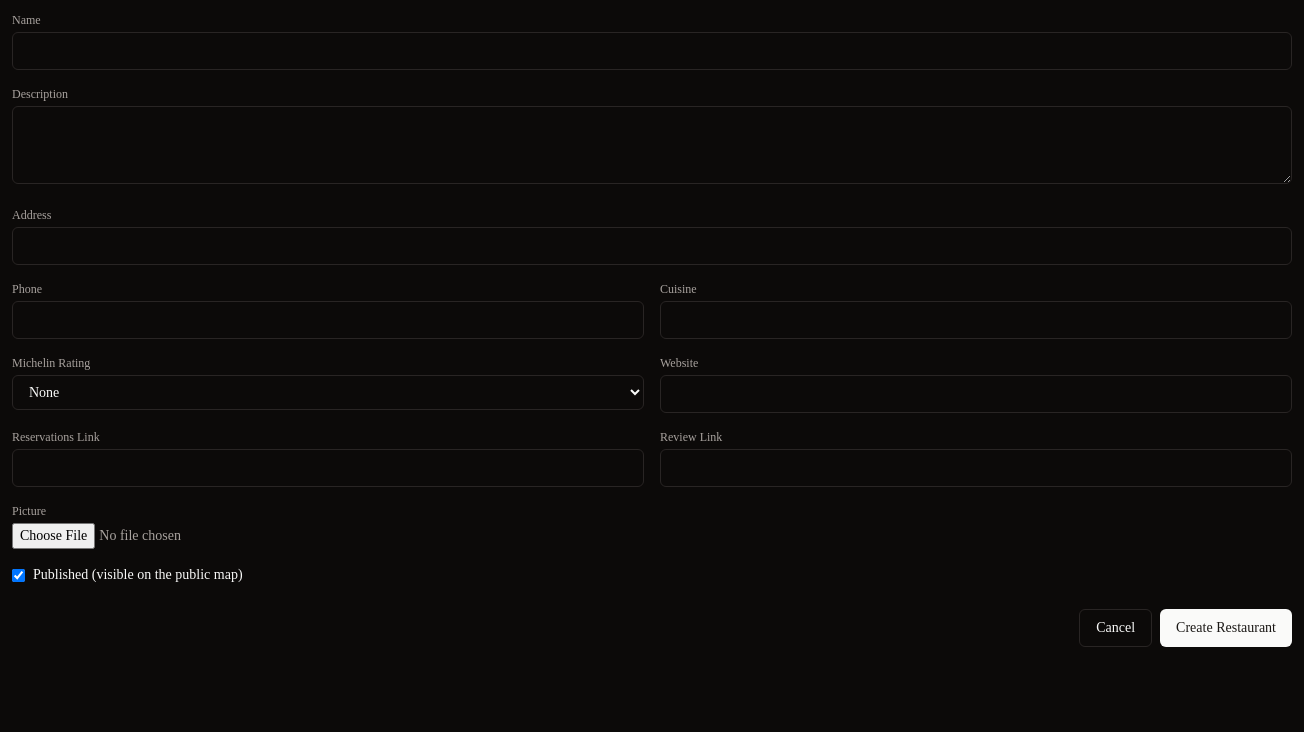
Test: LocationForm › blocks submit when the address has not been geocoded
Type "My Cafe" into the field labelled "Name" at (652, 51), box x1=12 y1=32 x2=1292 y2=70
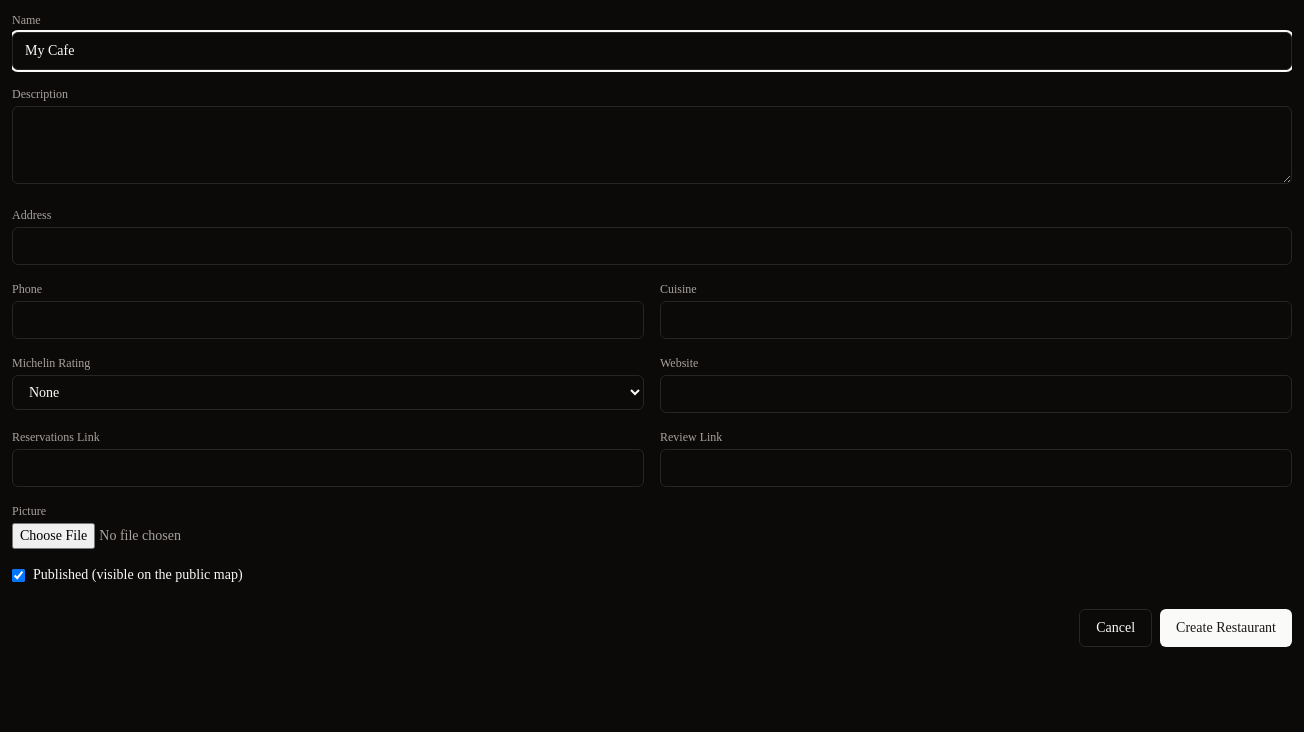
Type "Nowhere" into the field labelled "Address" at (652, 246), box x1=12 y1=227 x2=1292 y2=265
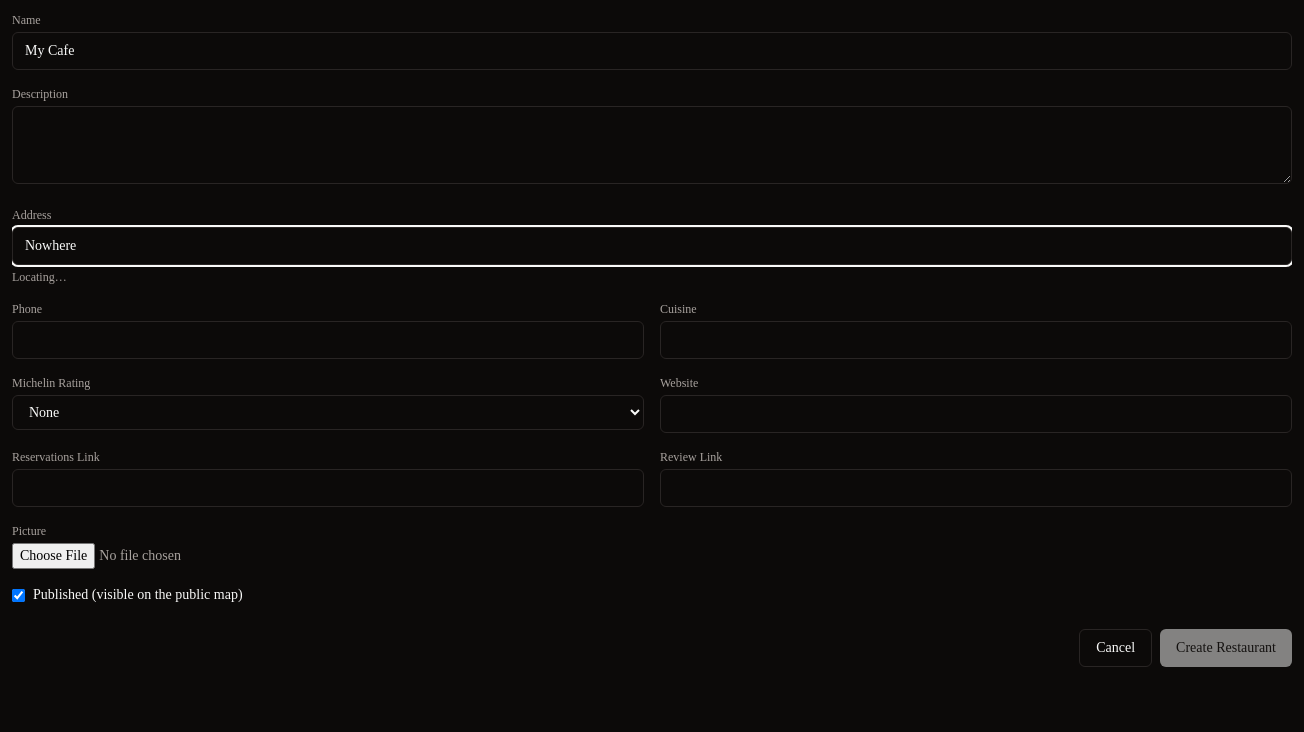
Submit the form named "create restaurant"
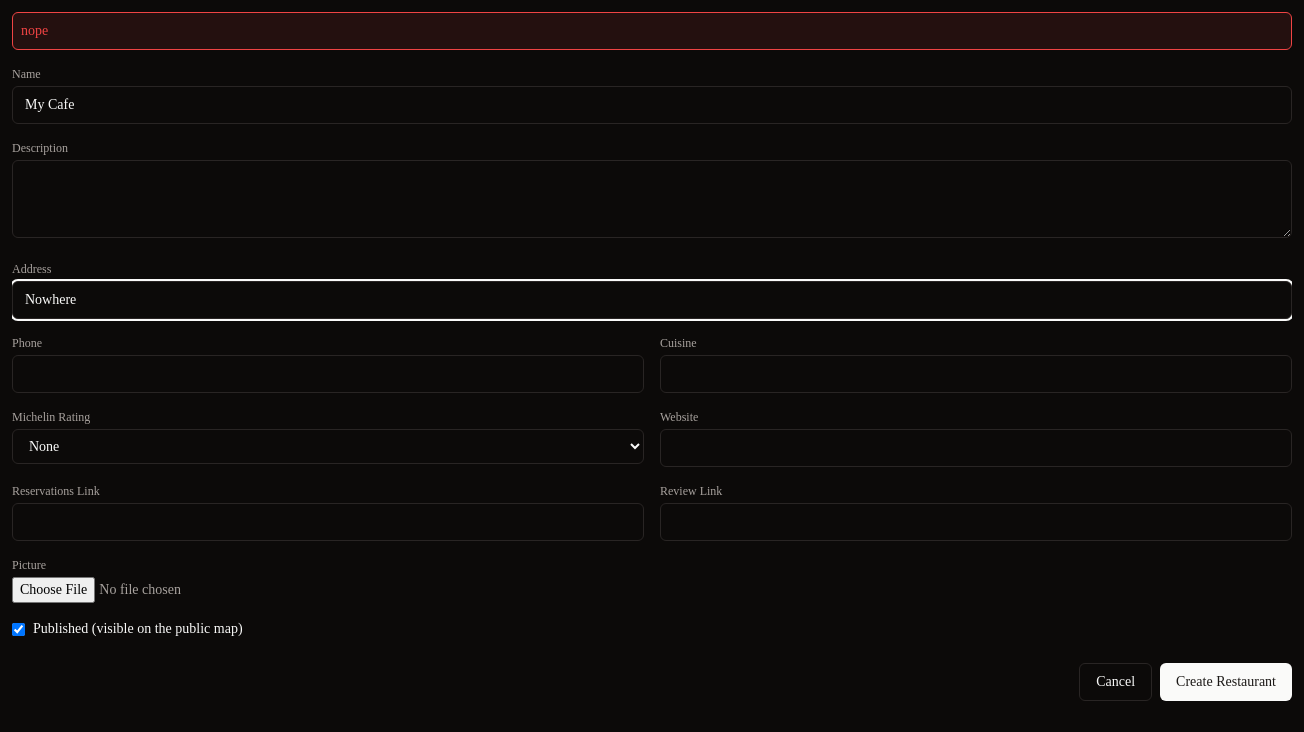
Now the text "must be geocoded before saving" is shown, box x1=12 y1=12 x2=1292 y2=50
